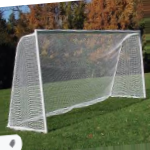goals: (6, 26, 148, 134)
